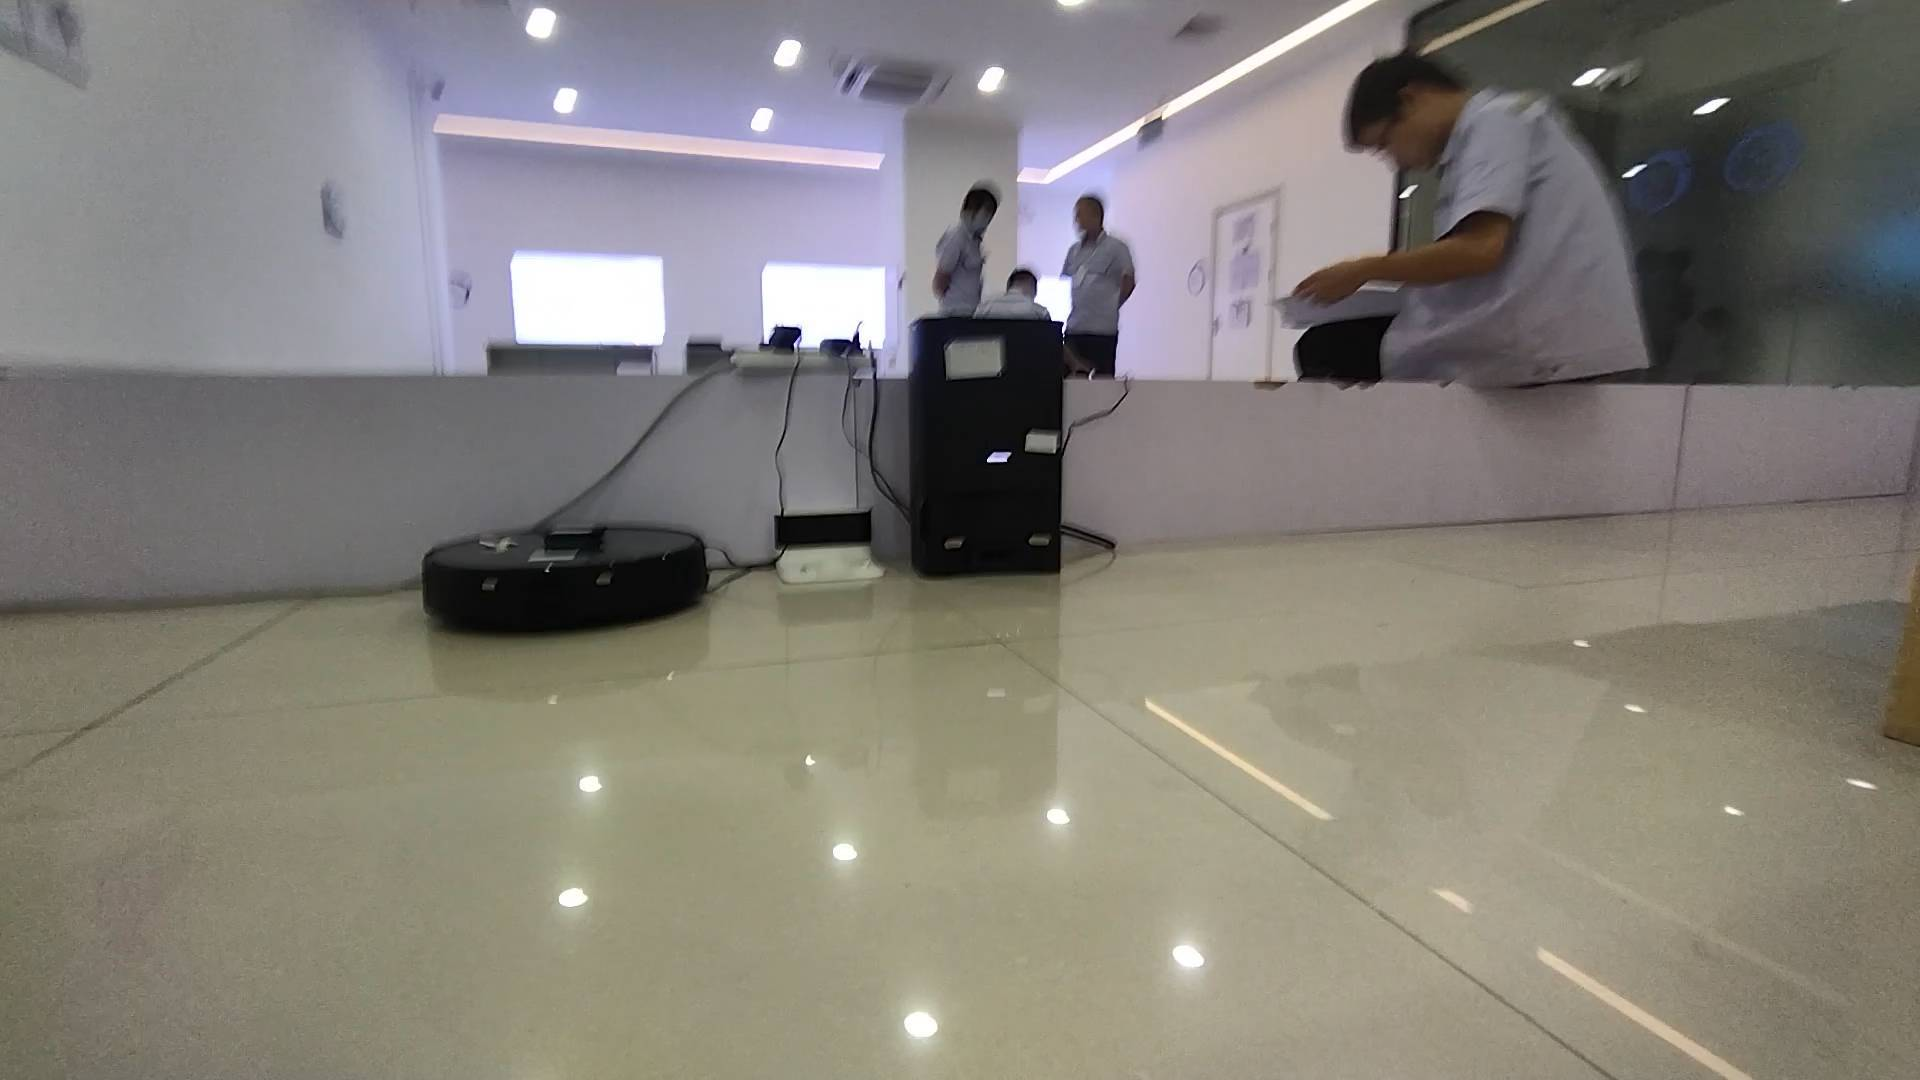dust collecting barrel: (905, 315, 1068, 576)
recharge seat: (775, 506, 894, 582)
